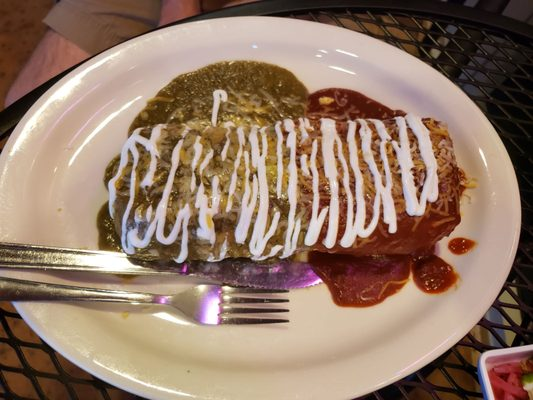burger: (2, 245, 309, 326), (0, 265, 293, 328)
pizza: (477, 345, 533, 400)
sushi: (477, 345, 533, 400)
